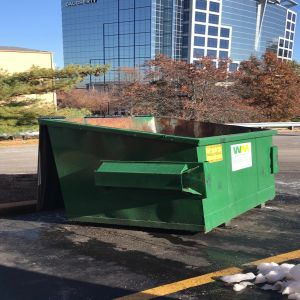Dumpster: (34, 115, 287, 239)
